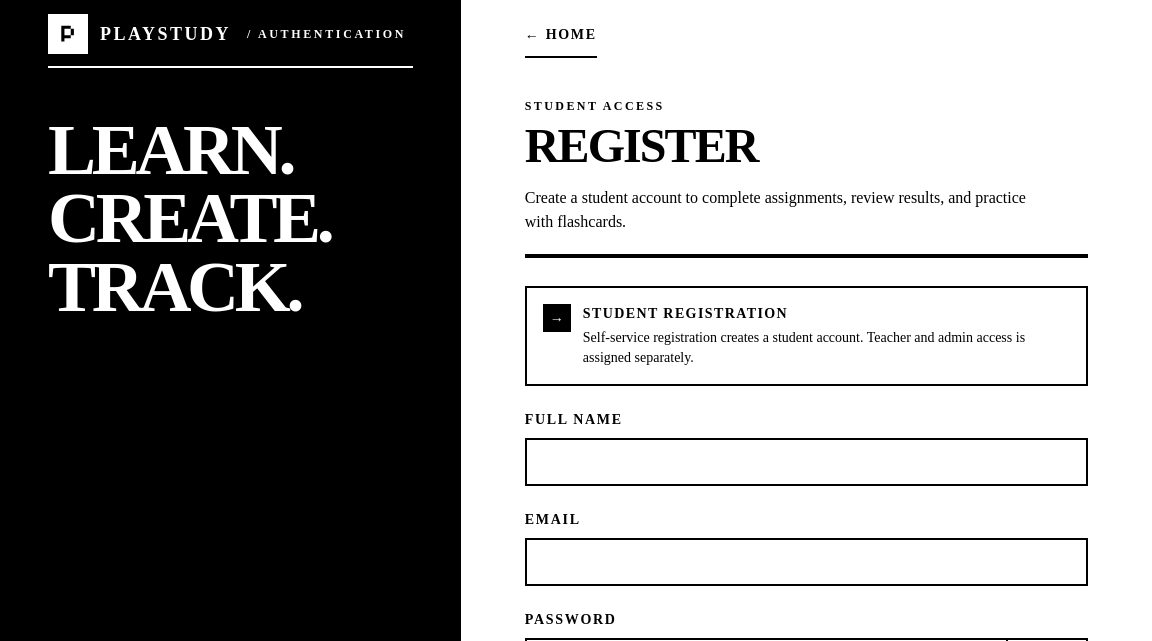
Scenario: authentication forms › validates password length and confirmation next to the fields
Type "Test Student" into the field labelled "Full name" at (806, 462), box x1=525 y1=438 x2=1088 y2=486
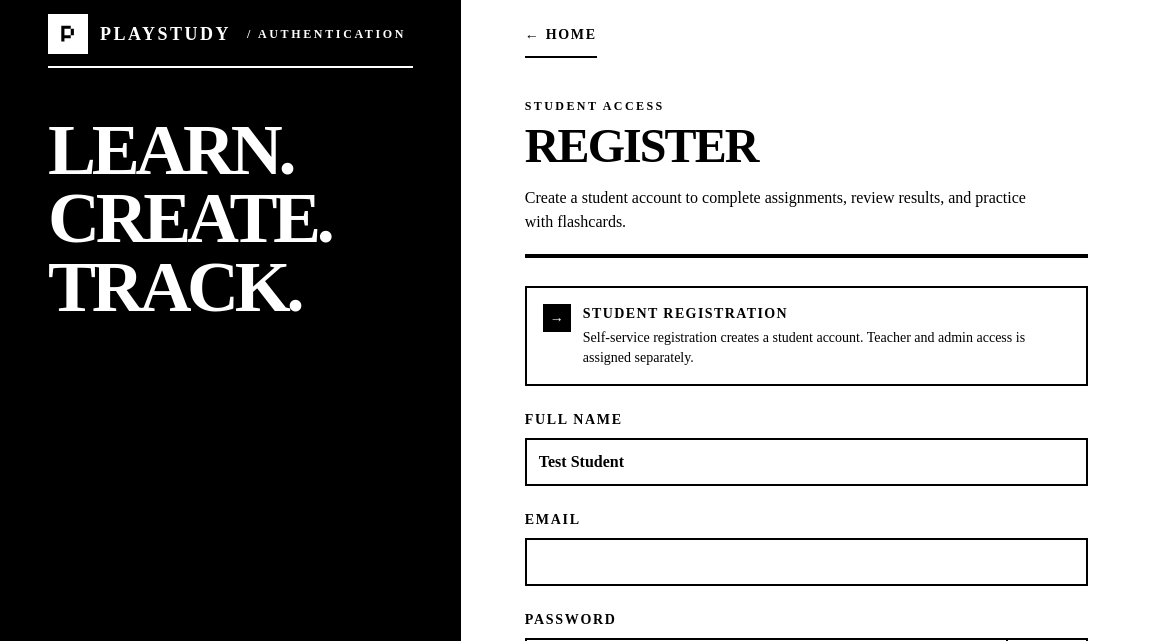
Type "student@example.test" into the field labelled "Email" at (806, 562), box x1=525 y1=538 x2=1088 y2=586
(page scrolled)
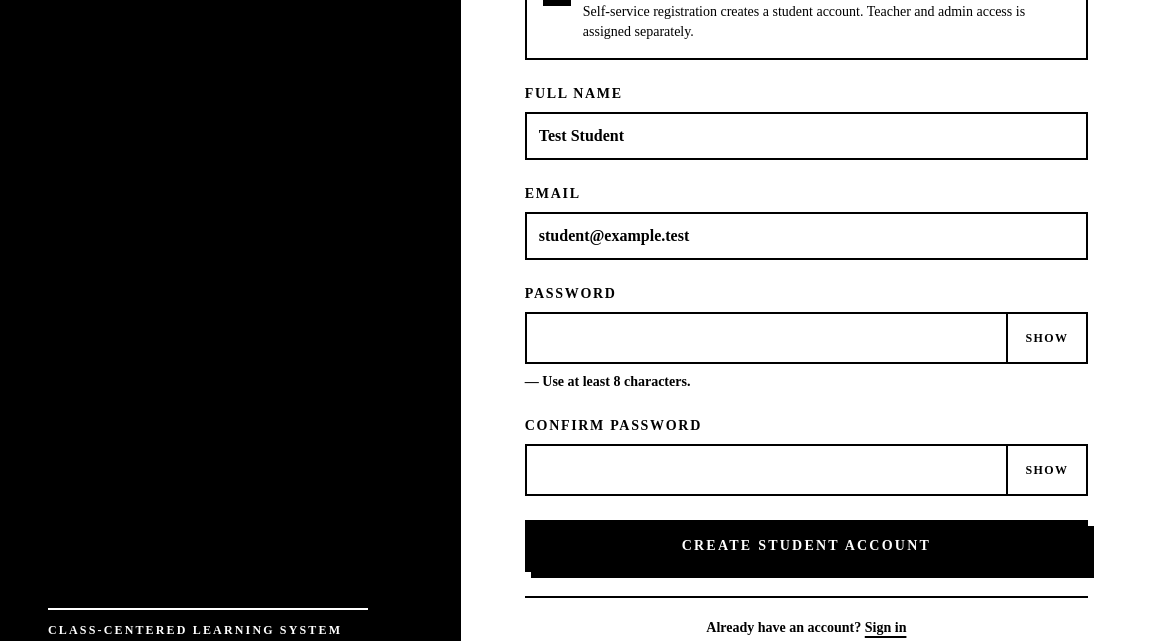
Type "short" into the password field labelled "Password" at (766, 338), box x1=527 y1=314 x2=1006 y2=362
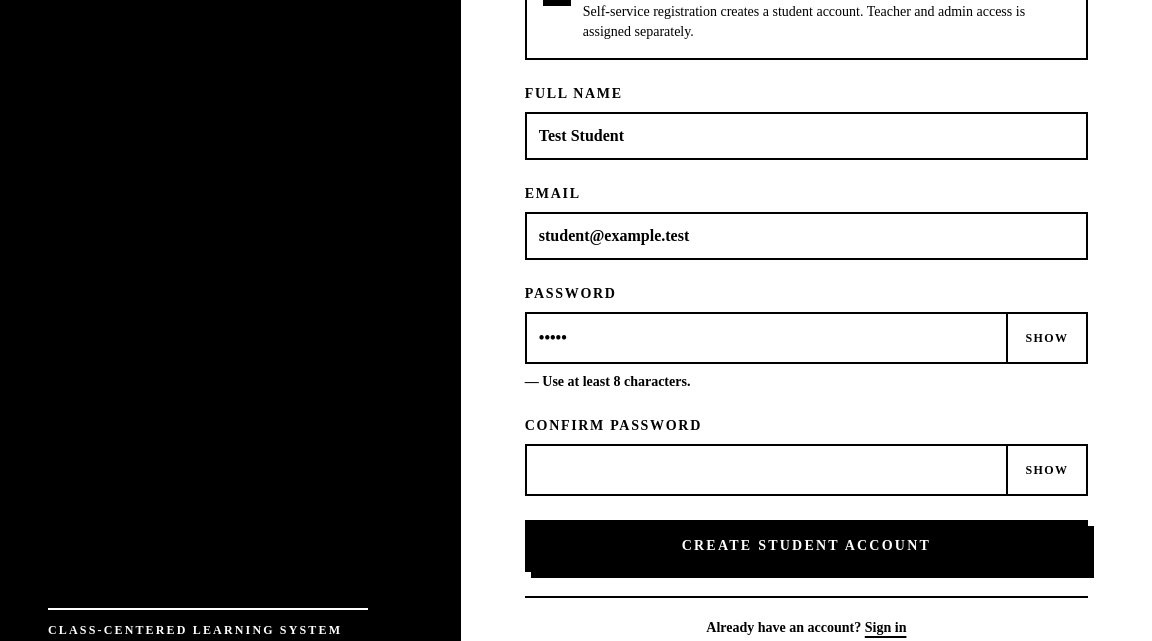
Type "different" into the password field labelled "Confirm password" at (766, 470), box x1=527 y1=446 x2=1006 y2=494
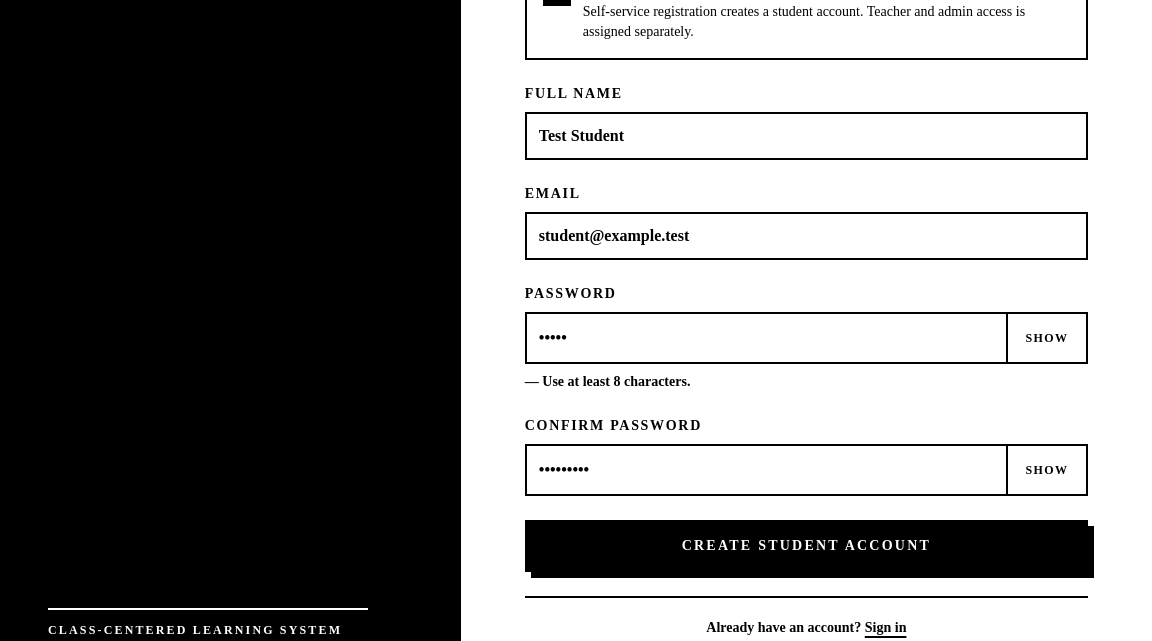
Click the button "Create student account" at (806, 546), box x1=525 y1=520 x2=1088 y2=572
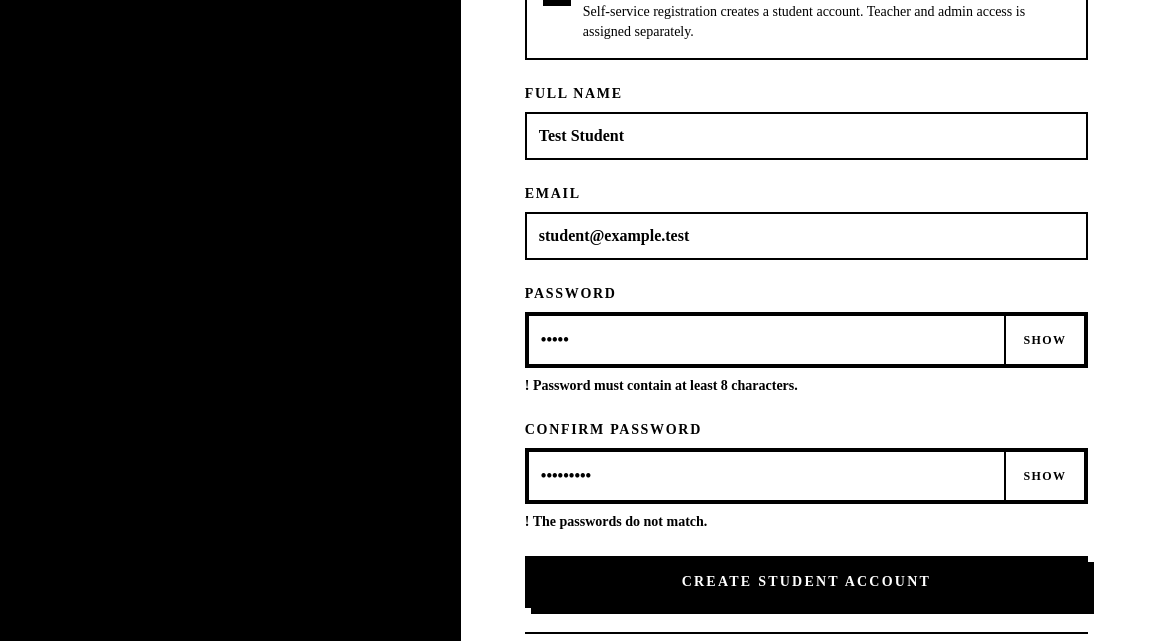
Expected: the text "Password must contain at least 8 characters." is shown, x1=533 y1=378 x2=798 y2=393
Expected: the text "The passwords do not match." is shown, x1=533 y1=514 x2=707 y2=529
